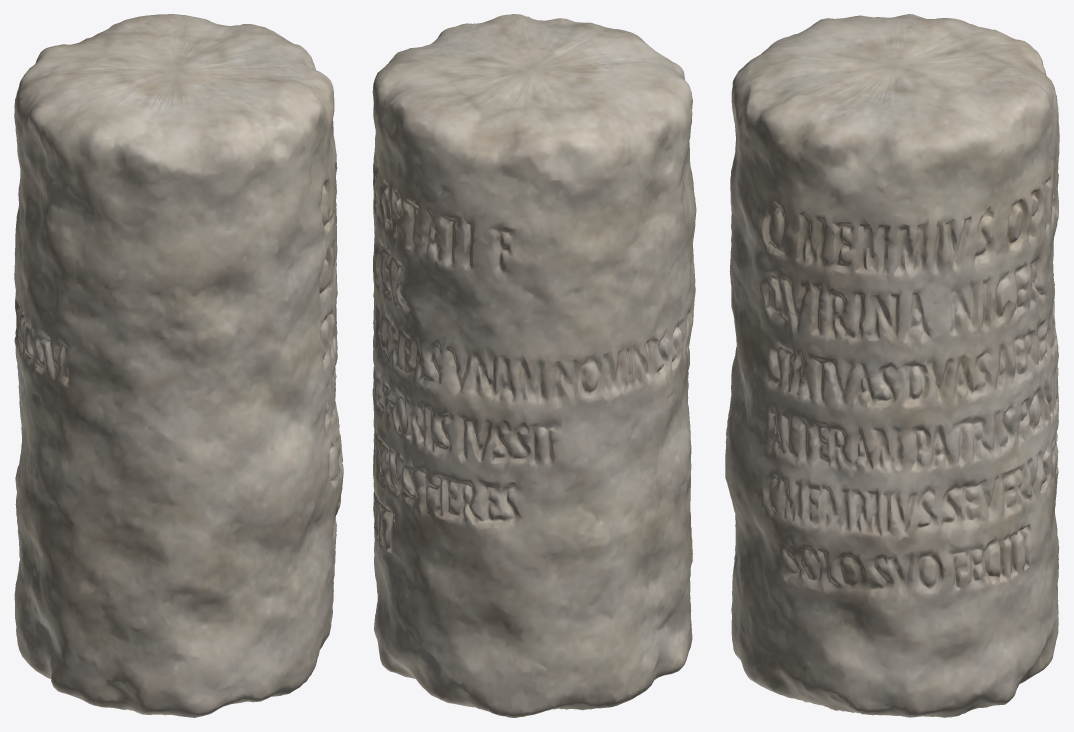
File: 13_CIPO_niger.glb
The picture shows the model from 3 angles, left to right: view 1: azimuth 30°, elevation 25°; view 2: azimuth 150°, elevation 25°; view 3: azimuth 270°, elevation 25°; orthographic projection.
Parts seen in each view (by area): view 1: MEMIVS_OPTATI_LP; view 2: MEMIVS_OPTATI_LP; view 3: MEMIVS_OPTATI_LP.
Part boxes in pixels (x1,y1,x2,y2): MEMIVS_OPTATI_LP: [14, 14, 343, 717]; MEMIVS_OPTATI_LP: [372, 14, 696, 717]; MEMIVS_OPTATI_LP: [725, 14, 1059, 717].
Bounding box in the file's own units: 0.4175 × 0.8283 × 0.4136.
1 material, 1 textured.
